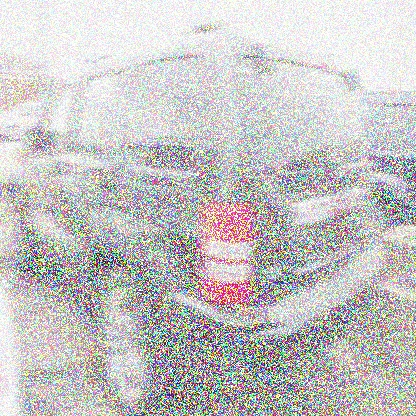Vehicle: (5, 20, 385, 416)
